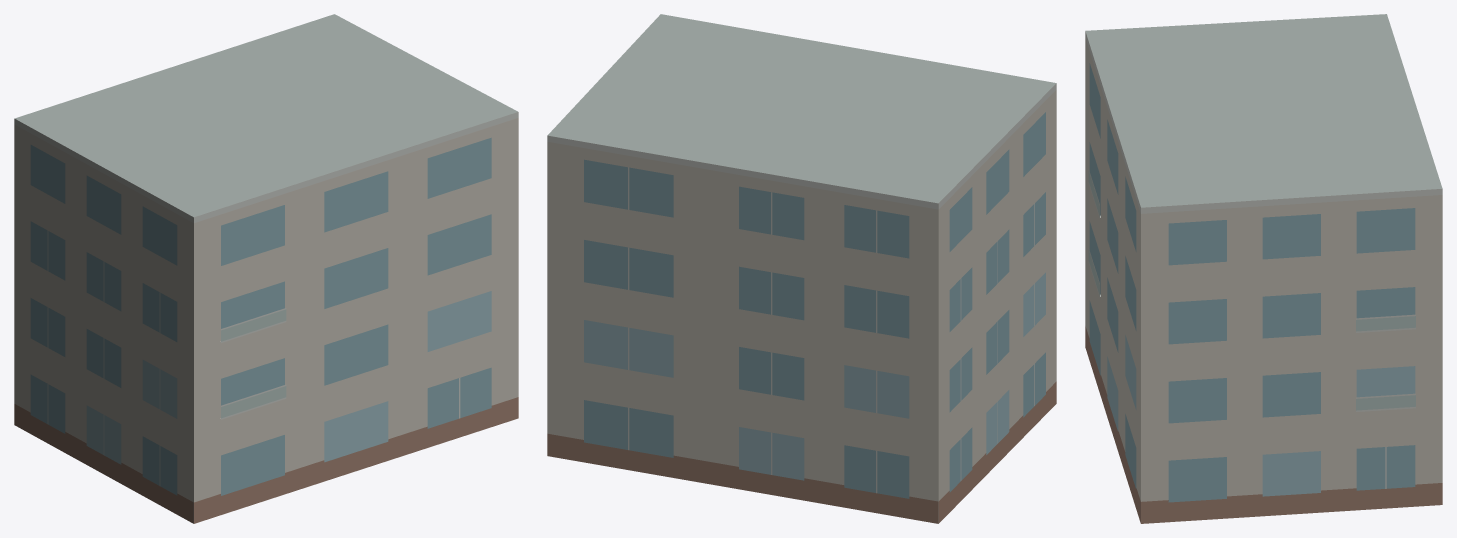
File: survey-upis-32577644.glb
The picture shows the model from 3 angles, left to right: view 1: azimuth 30°, elevation 25°; view 2: azimuth 150°, elevation 25°; view 3: azimuth 270°, elevation 25°; orthographic projection. The views are drawn at different scales.
Visible parts, largest first — view 1: survey-upis-32577644.tmp; view 2: survey-upis-32577644.tmp; view 3: survey-upis-32577644.tmp.
Part boxes in pixels (x1,y1,x2,y2): survey-upis-32577644.tmp: (14, 14, 518, 523); survey-upis-32577644.tmp: (547, 14, 1056, 523); survey-upis-32577644.tmp: (1085, 14, 1442, 523).
Size of the model in its own units: 16.57 by 12.6 by 12.92.
